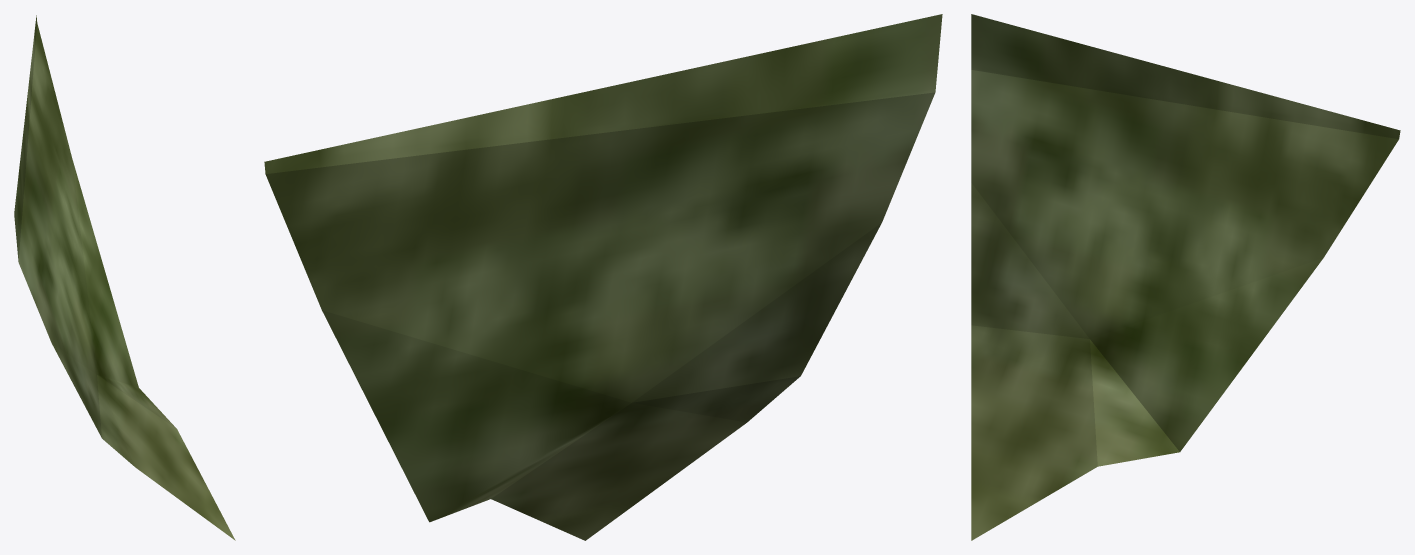
3 views of the same model, side by side, from view 1: azimuth 30°, elevation 25°; view 2: azimuth 150°, elevation 25°; view 3: azimuth 270°, elevation 25° (orthographic). The views are drawn at different scales.
Bounding box in the file's own units: 0.3493 × 0.574 × 0.5438.
Materials: 1 (1 with a texture image).
